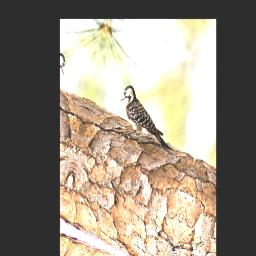Woodpecker: (113, 82, 184, 160)
